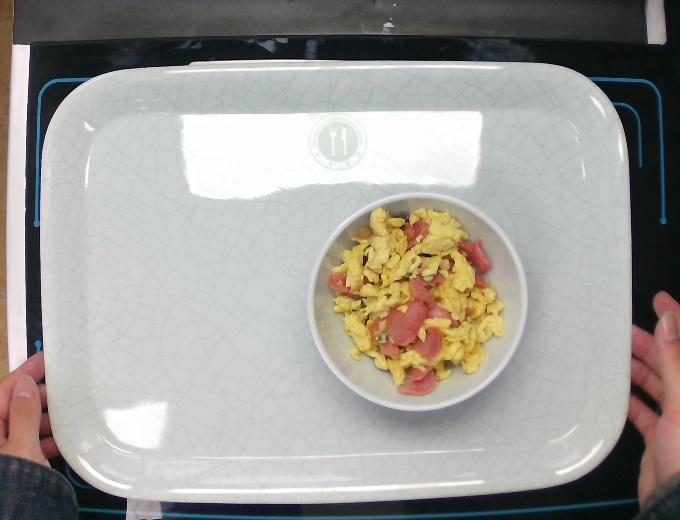JYsf-Fan_Wan: (303, 189, 531, 414)
